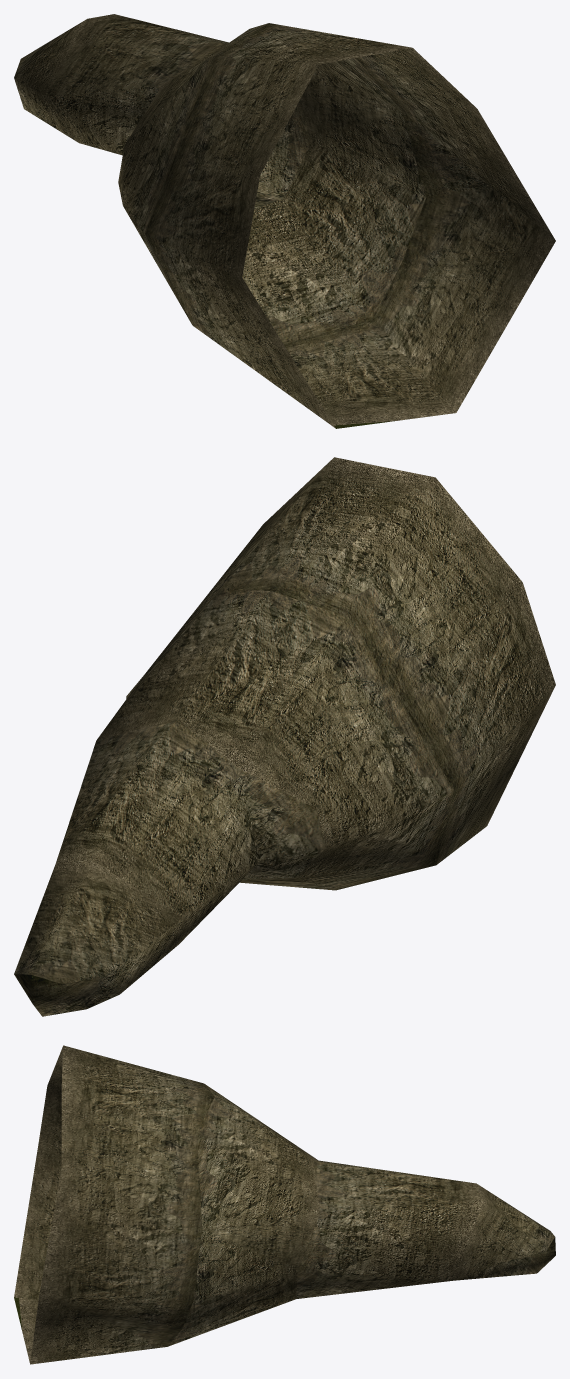
The model's file is MEP_Edge_Rock_02.fbx.
3 renders of one model, top to bottom at view 1: azimuth 30°, elevation 25°; view 2: azimuth 150°, elevation 25°; view 3: azimuth 270°, elevation 25°, orthographic. The views are drawn at different scales.
Visible parts, largest first — view 1: MEP_Edge_Rock_02; view 2: MEP_Edge_Rock_02; view 3: MEP_Edge_Rock_02.
Boxes of the visible parts, <box> form: MEP_Edge_Rock_02: <box>14,14,555,428</box>; MEP_Edge_Rock_02: <box>14,457,555,1016</box>; MEP_Edge_Rock_02: <box>14,1045,555,1364</box>.
Size of the model in its own units: 25.39 by 27.1 by 48.26.
